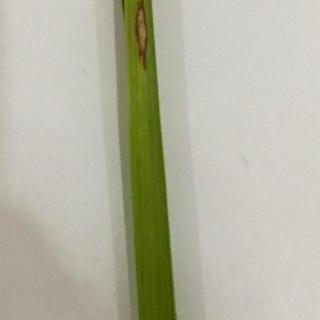Blast: (124, 0, 158, 75)
